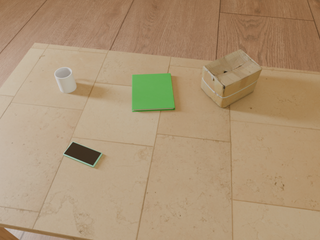book: (132, 73, 175, 112)
box: (201, 50, 262, 108)
cup: (55, 67, 76, 93)
phone: (63, 142, 102, 167)
